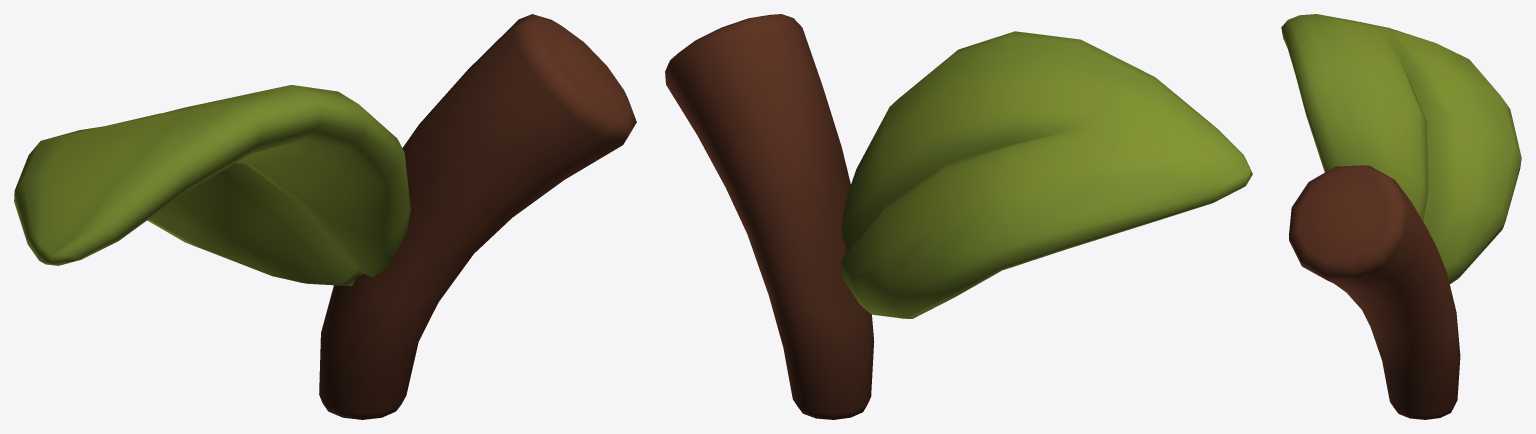
Rendered from 17-Apple-Stem-129135999557186.glb.
The picture shows the model from 3 angles, left to right: view 1: azimuth 30°, elevation 25°; view 2: azimuth 150°, elevation 25°; view 3: azimuth 270°, elevation 25°; orthographic projection. The views are drawn at different scales.
Visible parts, largest first — view 1: 17-Apple-Stem-129135999557186; view 2: 17-Apple-Stem-129135999557186; view 3: 17-Apple-Stem-129135999557186.
Boxes of the visible parts, x1,y1,x2,y2 form: 17-Apple-Stem-129135999557186: [14, 14, 636, 419]; 17-Apple-Stem-129135999557186: [665, 14, 1252, 419]; 17-Apple-Stem-129135999557186: [1281, 14, 1521, 419].
Bounding box in the file's own units: 1.37 × 0.8623 × 0.6069.
Materials: 1 (1 with a texture image).
